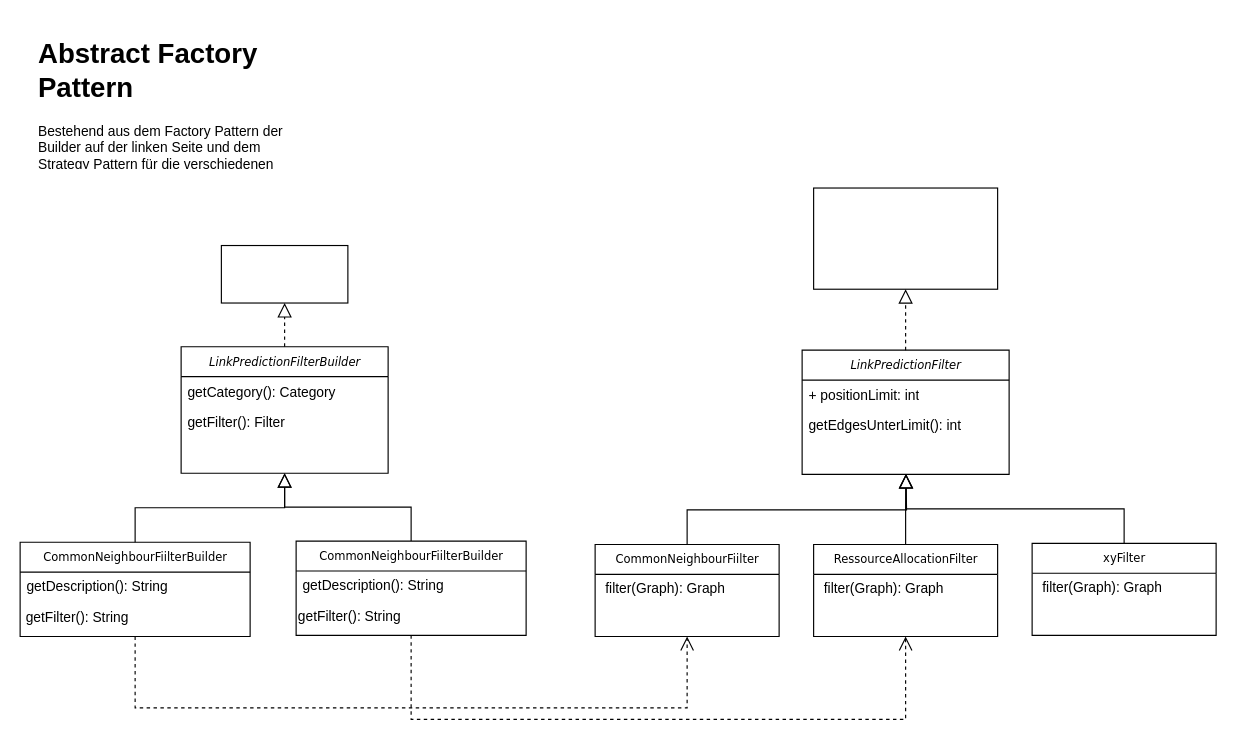
The diagram is 1236 pixels wide and 753 high, and some of its shapes have lost their labels. The shapes that lost their labels are listed below. From the top down, each one's centre as x and y in pixels, then its label:
[905,238]: <<Interface>> ComplexFilter filter(Graph): Graph
[284,273]: «interface» FilterBuilder
